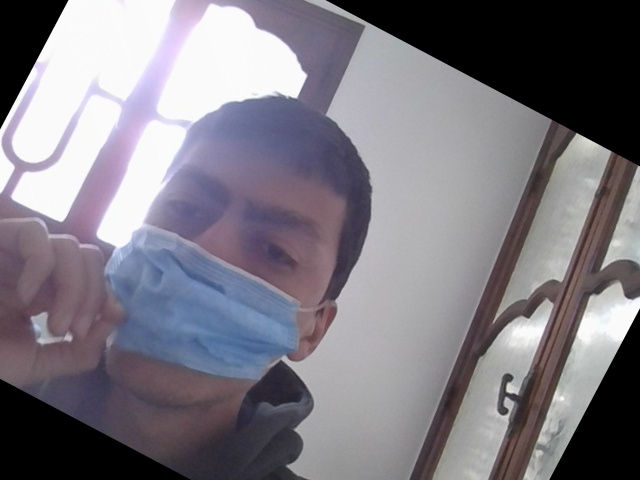mask_weared_incorrect: (89, 117, 351, 414)
